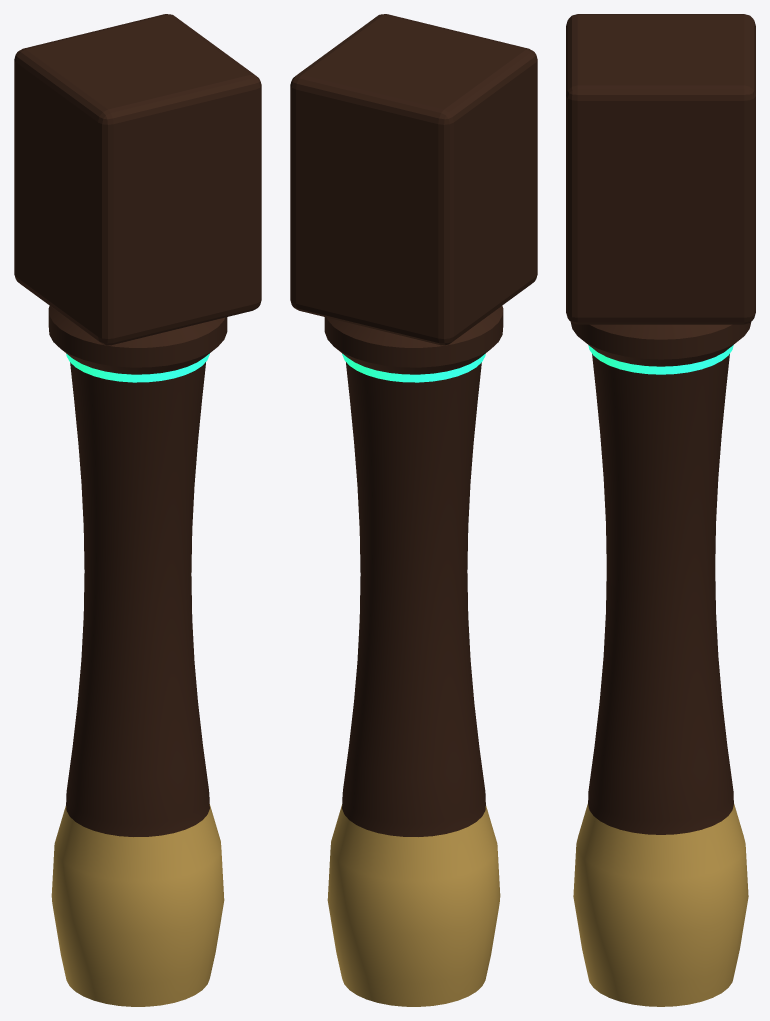
File: table_leg.glb
3 renders of one model, left to right at view 1: azimuth 30°, elevation 25°; view 2: azimuth 150°, elevation 25°; view 3: azimuth 270°, elevation 25°, orthographic.
Visible parts, largest first — view 1: table_leg; view 2: table_leg; view 3: table_leg.
Part boxes in pixels (box(x1,y1,x2,y2)): table_leg: box(14, 14, 261, 1006); table_leg: box(290, 14, 537, 1006); table_leg: box(566, 14, 755, 1006).
Bounding box in the file's own units: 0.13 × 0.7 × 0.13.
